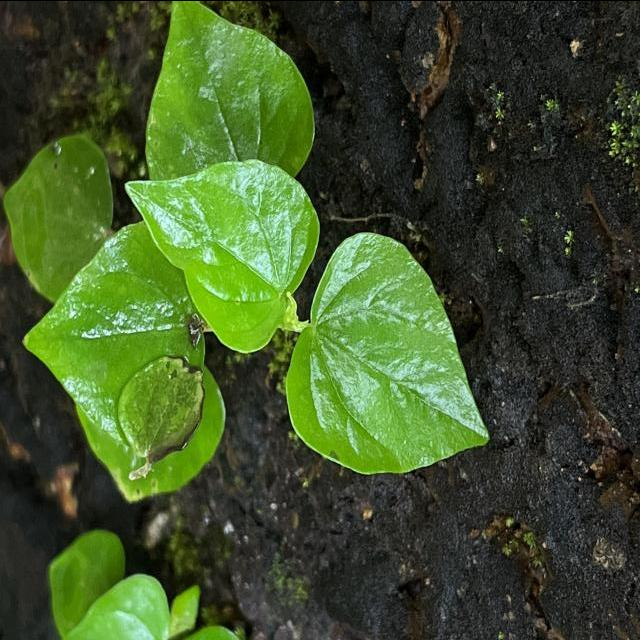Peperomia pellucida: (284, 230, 492, 478), (122, 157, 322, 356)
